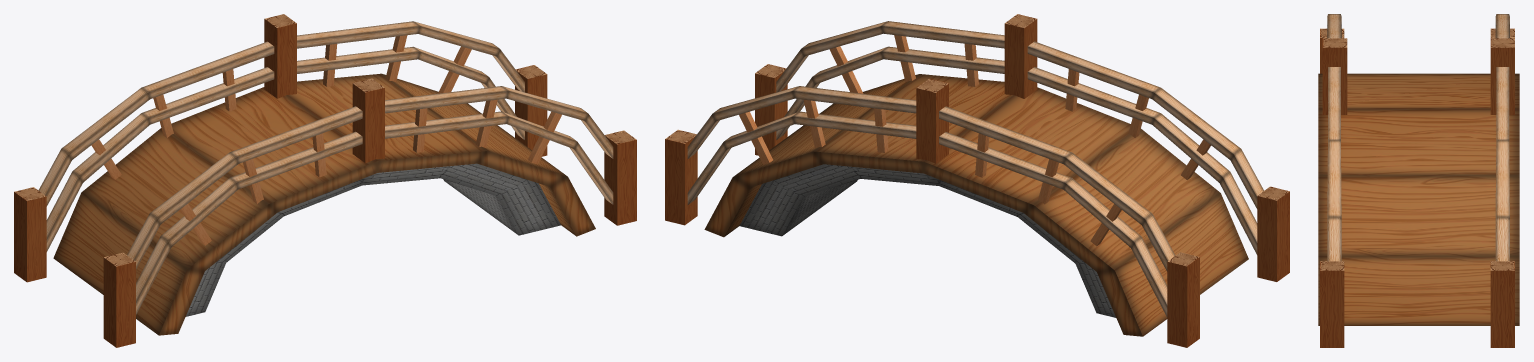
3 views of the same model, side by side, from view 1: azimuth 30°, elevation 25°; view 2: azimuth 150°, elevation 25°; view 3: azimuth 270°, elevation 25° (orthographic). The views are drawn at different scales.
Parts seen in each view (by area): view 1: Tube001; view 2: Tube001; view 3: Tube001.
Part boxes in pixels (x1=…): Tube001: x1=14, y1=14, x2=636, y2=347; Tube001: x1=665, y1=14, x2=1289, y2=347; Tube001: x1=1318, y1=14, x2=1519, y2=347.
Bounding box in the file's own units: 195 × 69.33 × 68.65.
Materials: 1 (1 with a texture image).
